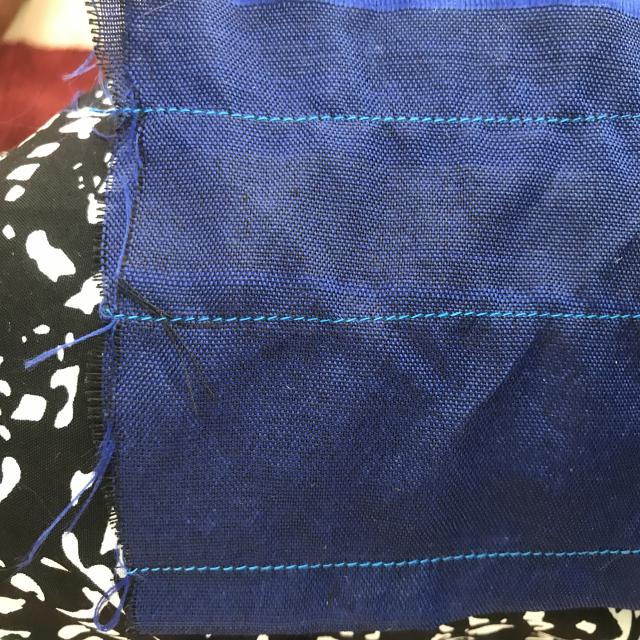good: (234, 104, 382, 135), (275, 303, 412, 335), (443, 305, 583, 334), (200, 557, 382, 577), (456, 546, 580, 566), (435, 112, 561, 130)
